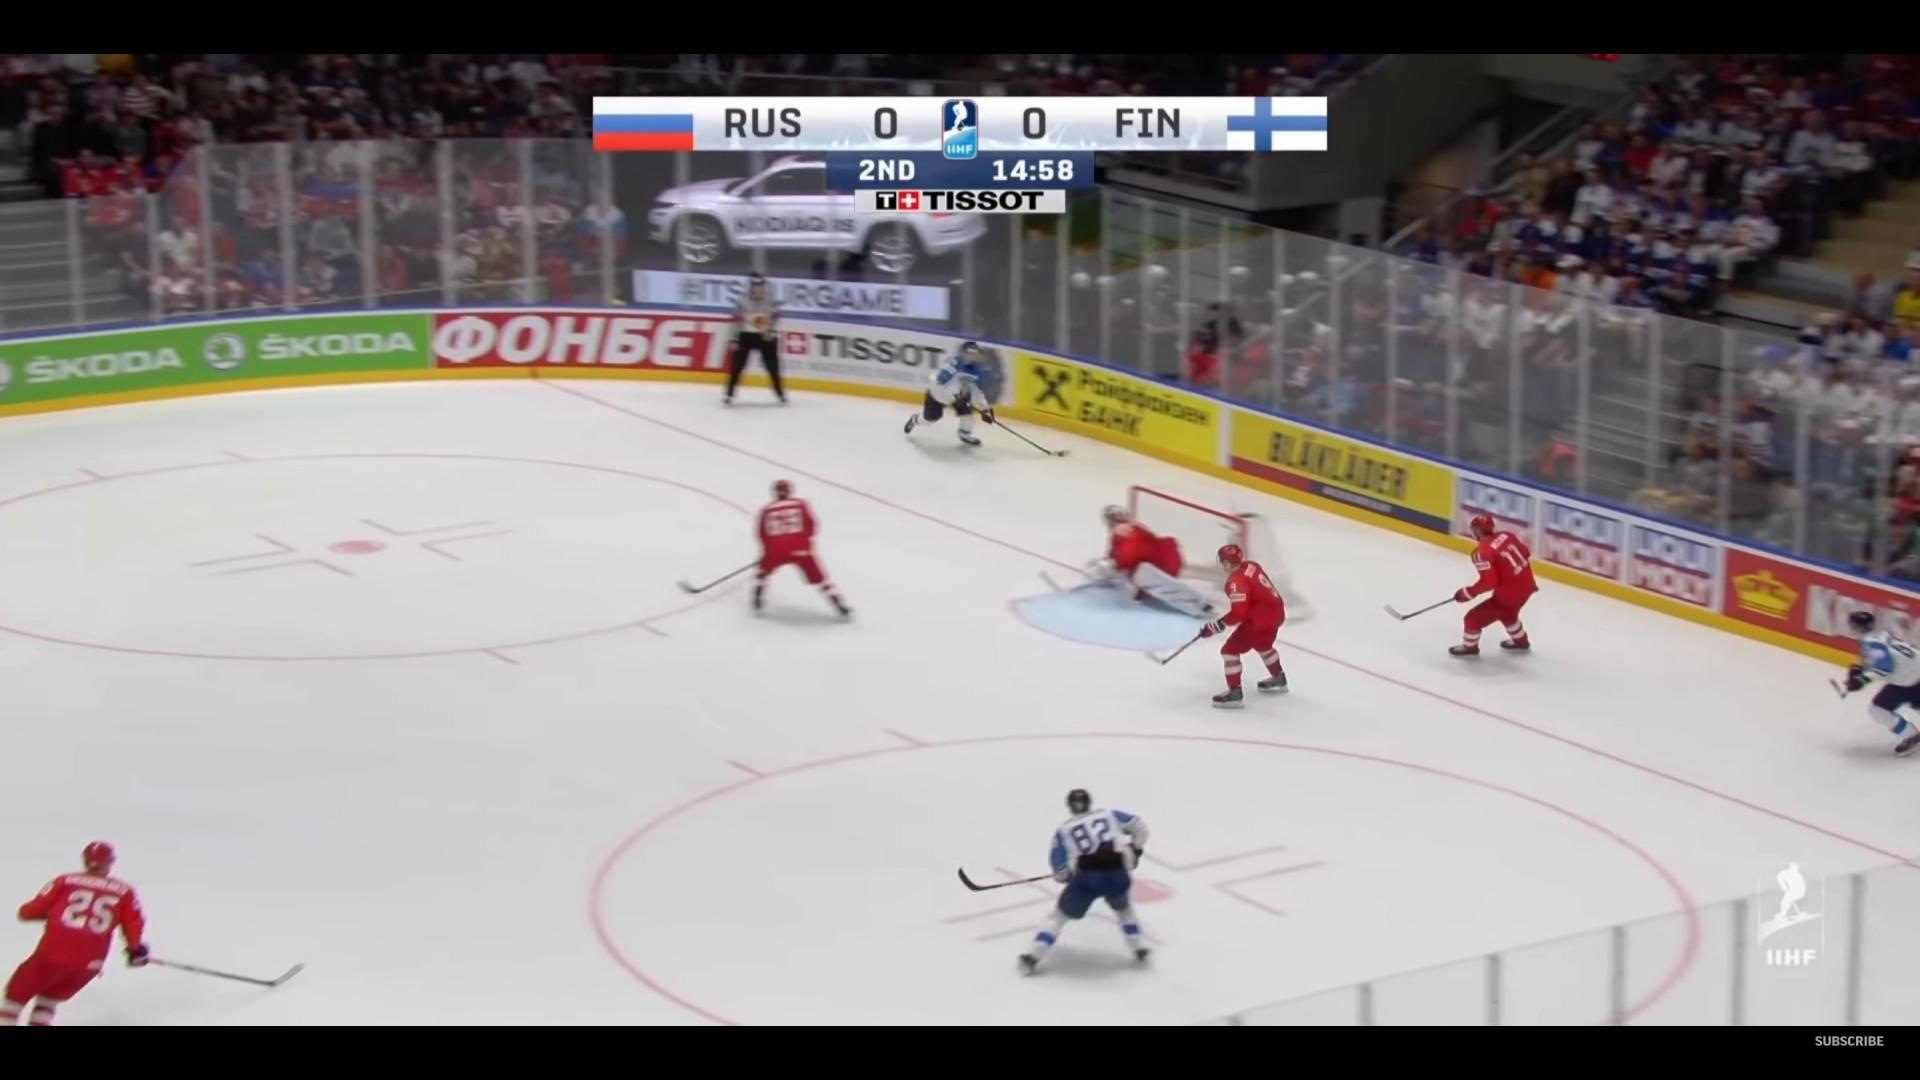puck: (1056, 451, 1064, 456)
